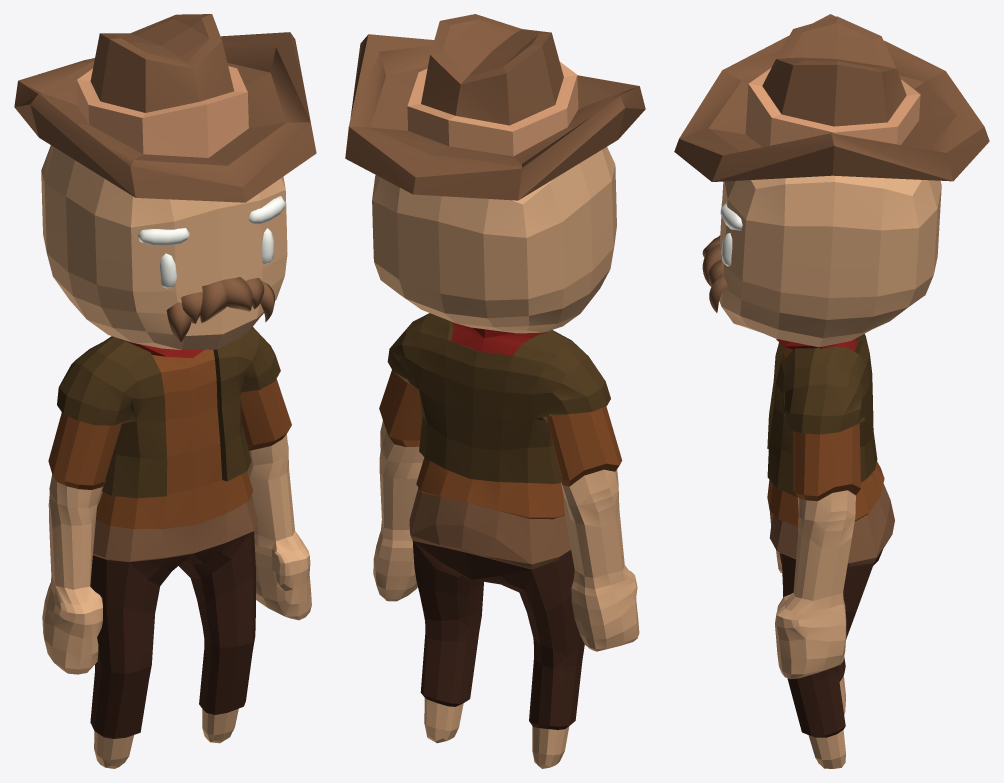
Rendered from debout-cowboy-male.glb.
3 views of the same model, side by side, from view 1: azimuth 30°, elevation 25°; view 2: azimuth 150°, elevation 25°; view 3: azimuth 270°, elevation 25° (orthographic). The views are drawn at different scales.
Parts seen in each view (by area): view 1: Cube004, Cube004_4, Cube004_5, Cube004_1, Cube004_2, Cube004_7, Cube004_8, Cube004_6; view 2: Cube004, Cube004_4, Cube004_2, Cube004_5, Cube004_1, Cube004_7, Cube004_3; view 3: Cube004, Cube004_4, Cube004_2, Cube004_1, Cube004_7, Cube004_5, Cube004_8, Cube004_6.
Part boxes in pixels (<box>): Cube004: <box>41,145,311,768</box>; Cube004_4: <box>14,14,316,562</box>; Cube004_5: <box>90,531,255,738</box>; Cube004_1: <box>48,349,291,529</box>; Cube004_2: <box>57,327,280,498</box>; Cube004_7: <box>77,66,248,157</box>; Cube004_8: <box>166,277,274,342</box>; Cube004_6: <box>137,196,286,288</box>; Cube004: <box>372,147,639,768</box>; Cube004_4: <box>345,14,645,569</box>; Cube004_2: <box>387,313,610,483</box>; Cube004_5: <box>412,541,584,729</box>; Cube004_1: <box>379,370,622,519</box>; Cube004_7: <box>407,62,578,156</box>; Cube004_3: <box>451,322,546,355</box>; Cube004: <box>719,175,941,768</box>; Cube004_4: <box>674,14,989,566</box>; Cube004_2: <box>767,334,877,496</box>; Cube004_1: <box>767,346,884,526</box>; Cube004_7: <box>745,68,920,147</box>; Cube004_5: <box>779,550,882,737</box>; Cube004_8: <box>702,235,727,312</box>; Cube004_6: <box>720,201,742,266</box>.
Bounding box in the file's own units: 0.6844 × 1.79 × 0.727.
